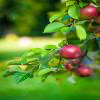Apple leaf: (42, 22, 67, 34), (13, 70, 30, 85), (74, 24, 88, 42), (67, 5, 82, 20), (40, 46, 55, 59)
